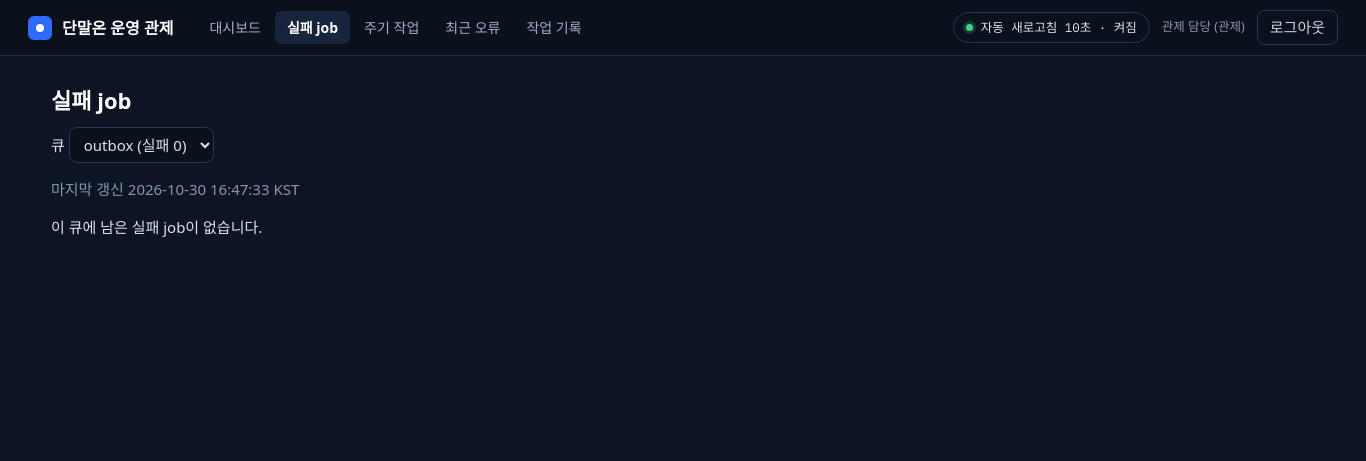
실패 job (보강 6, decisions/0072) › 주소의 ?queue=로 큐를 고르고, 고르기를 바꾸면 그 큐를 읽는다
expect the text "이 큐에 남은 실패 job이 없습니다." is shown: met, box [51,216,262,236]
Select "report (실패 2)" in the dropdown labelled "큐": point(141, 145) [69,127,214,163]
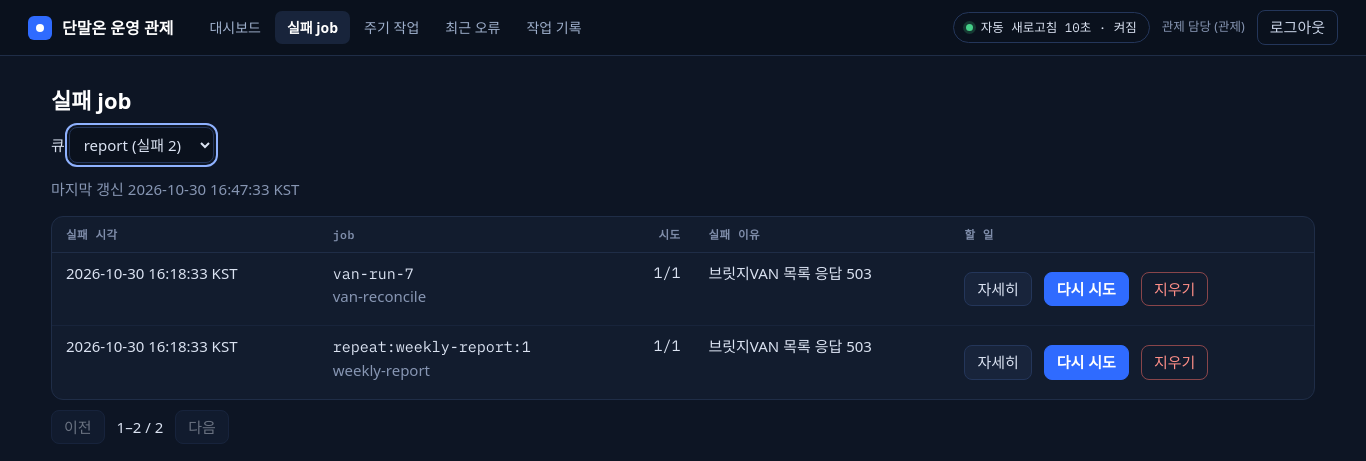
expect the text "van-run-7" is shown: met, box [333,264,414,283]
